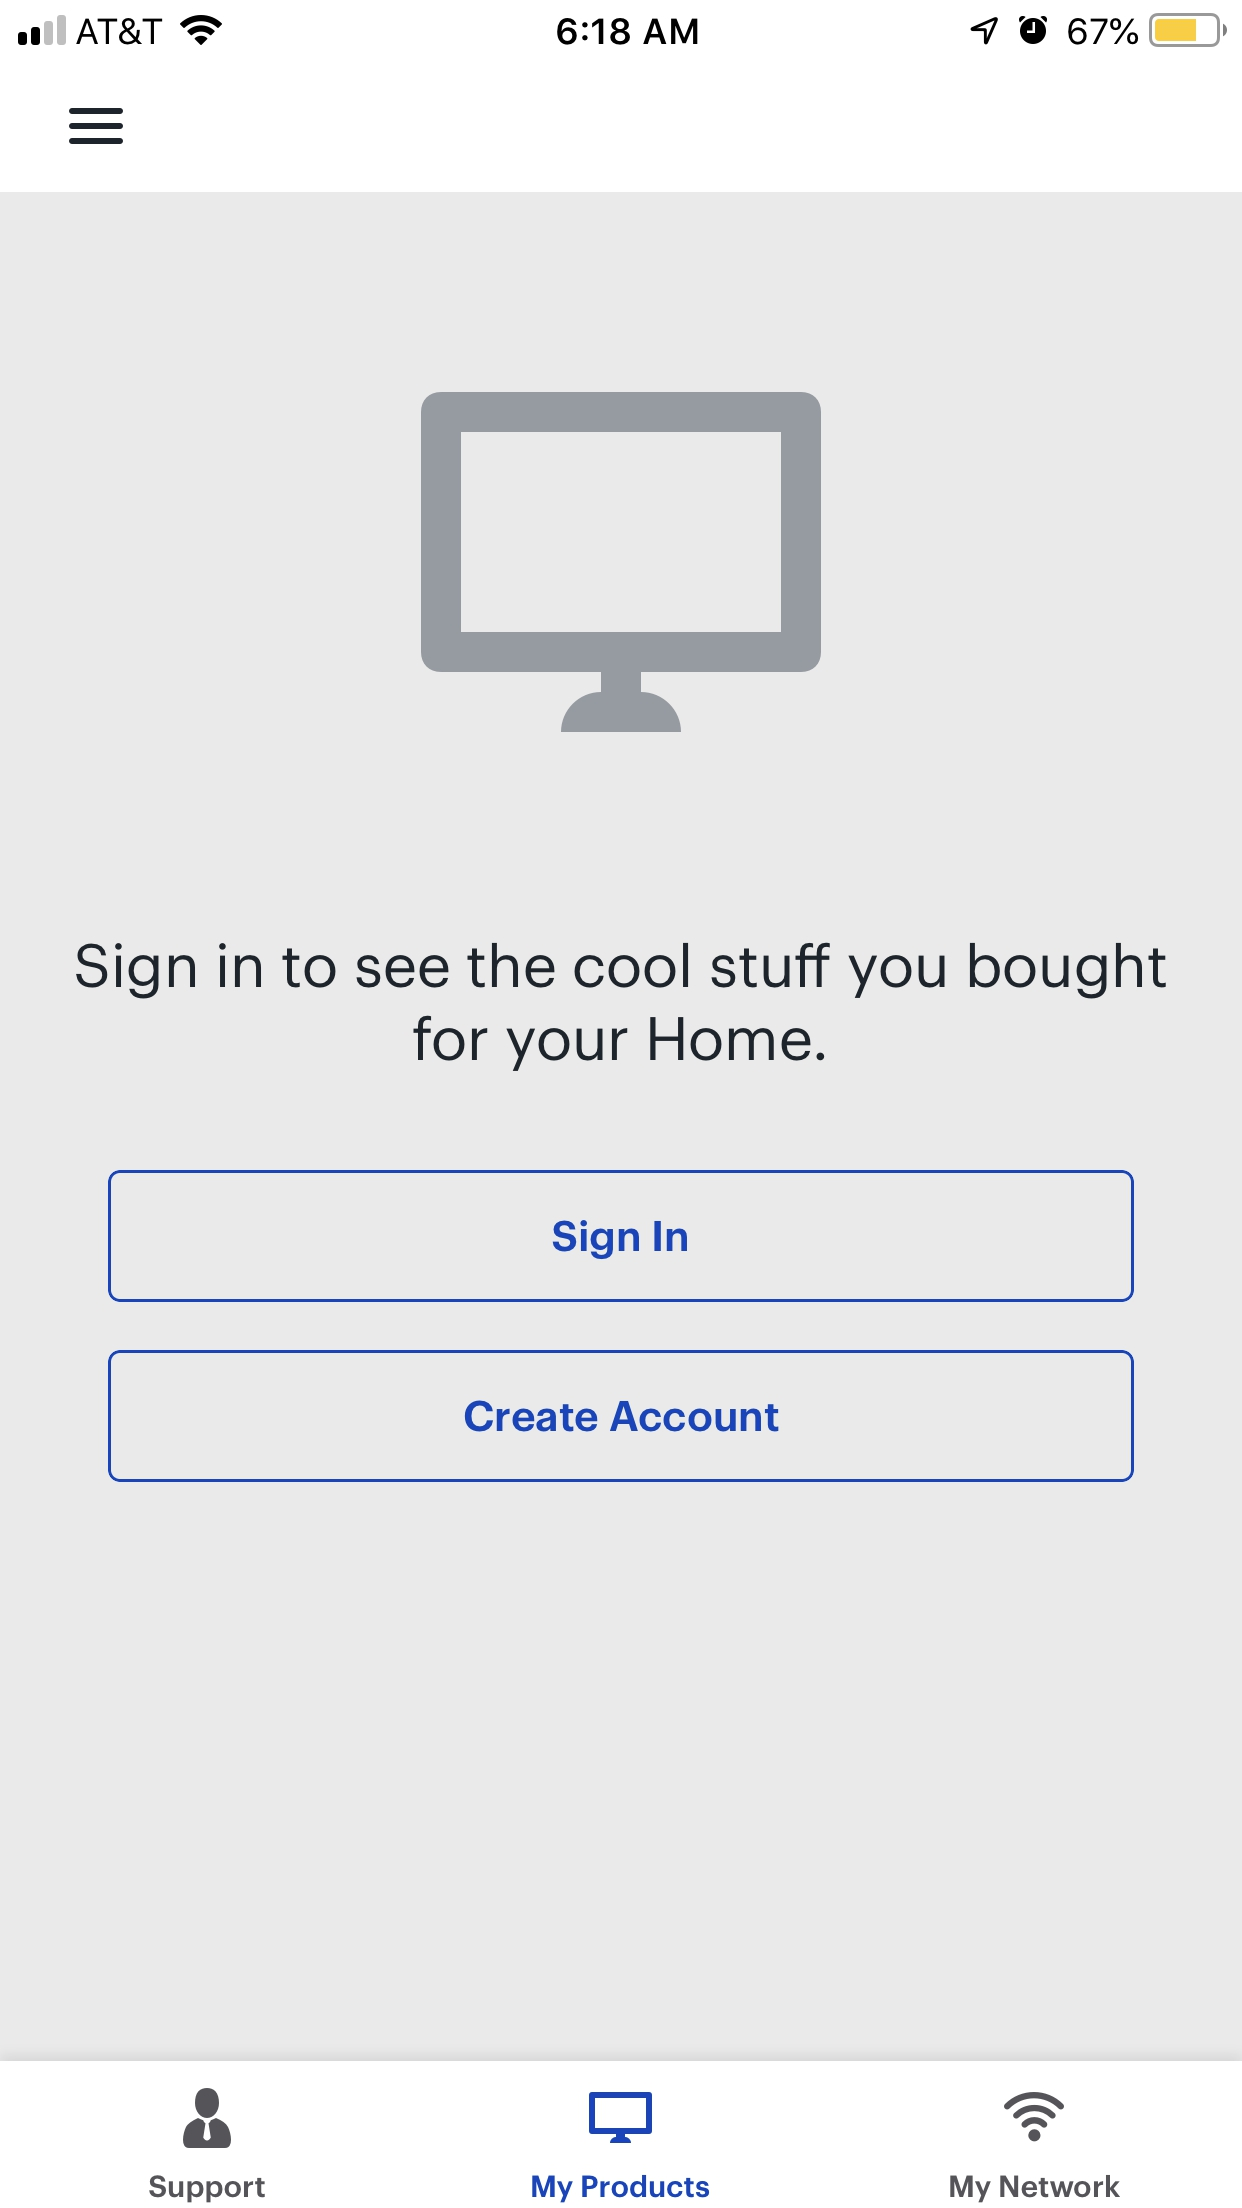Icon: (183, 2088, 234, 2149), (70, 108, 124, 146)
Image: (422, 391, 823, 732), (588, 2093, 654, 2144), (1002, 2091, 1065, 2141)
Text: (76, 942, 1168, 1072), (531, 2175, 710, 2203), (949, 2175, 1121, 2203), (149, 2175, 267, 2203)
TextButton: (108, 1350, 1134, 1483), (109, 1171, 1134, 1303)
UpperTaskBar: (2, 2, 1242, 49)
